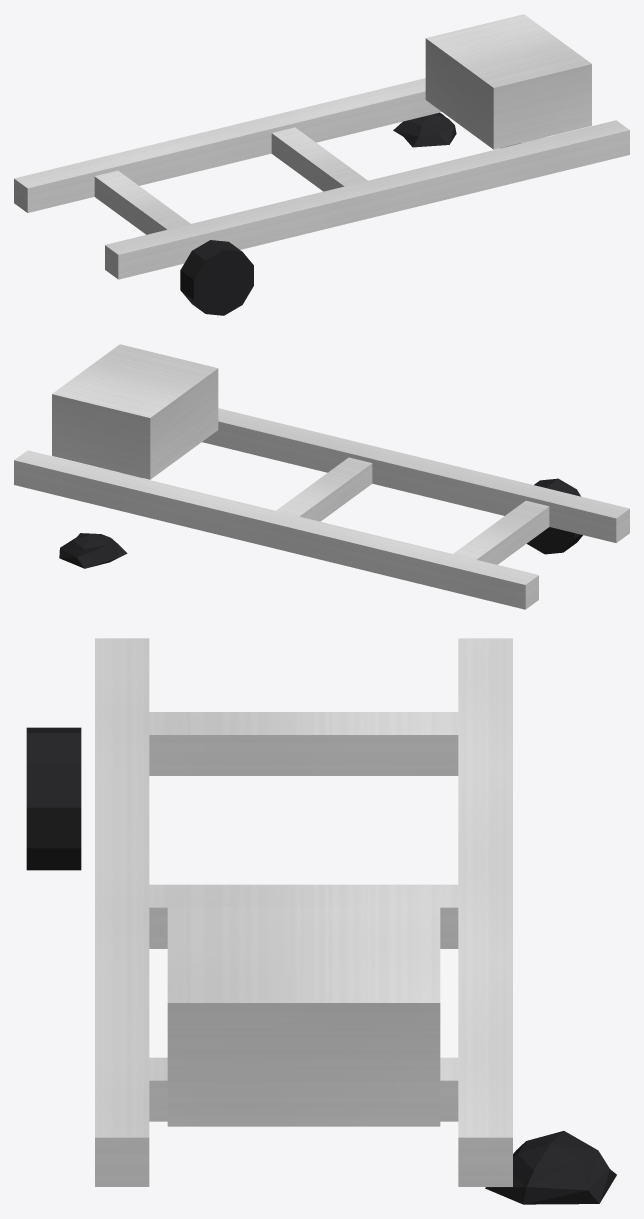
Rendered from wreck_car_frame.obj.
3 views of the same model, one above another, from view 1: azimuth 30°, elevation 25°; view 2: azimuth 150°, elevation 25°; view 3: azimuth 270°, elevation 25° (orthographic). The views are drawn at different scales.
Visible parts, largest first — view 1: wreck_car_frame; view 2: wreck_car_frame; view 3: wreck_car_frame.
Boxes of the visible parts, x1,y1,x2,y2 form: wreck_car_frame: [14, 14, 629, 315]; wreck_car_frame: [14, 344, 629, 609]; wreck_car_frame: [26, 638, 616, 1204].
Bounding box in the file's own units: 2.6 × 0.62 × 1.3.
